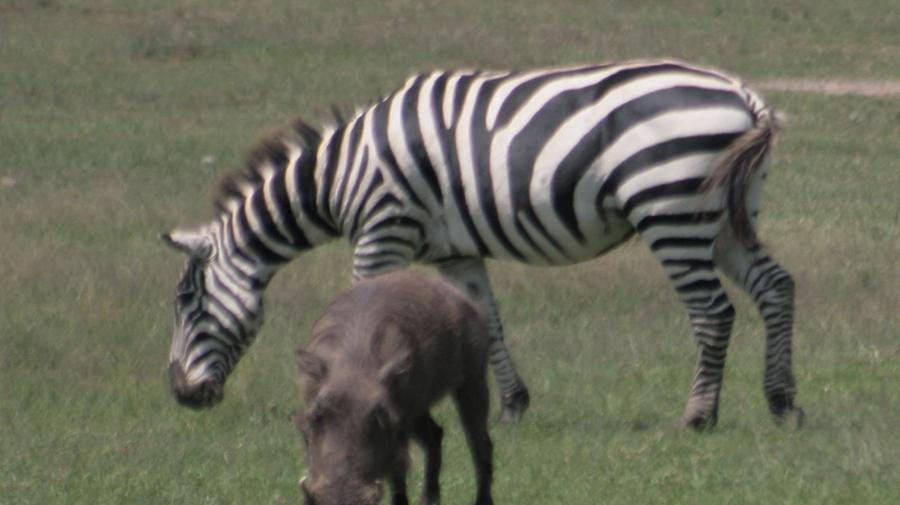zebra_plains: (309, 38, 773, 309)
